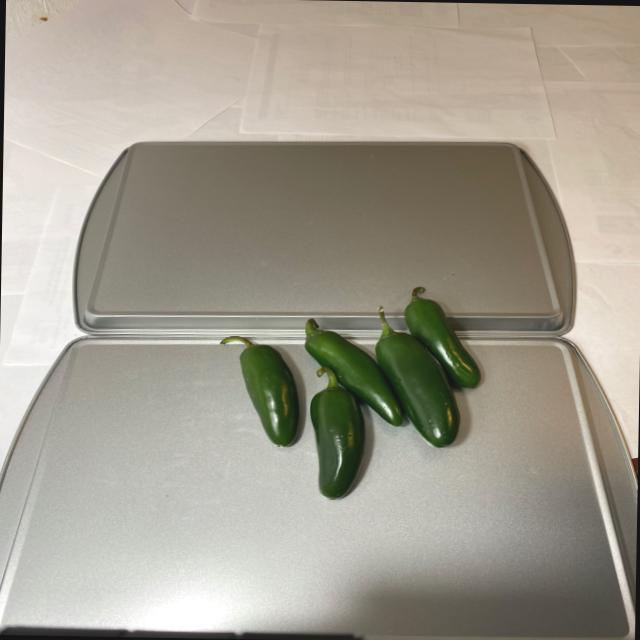chilli: (213, 278, 494, 503)
